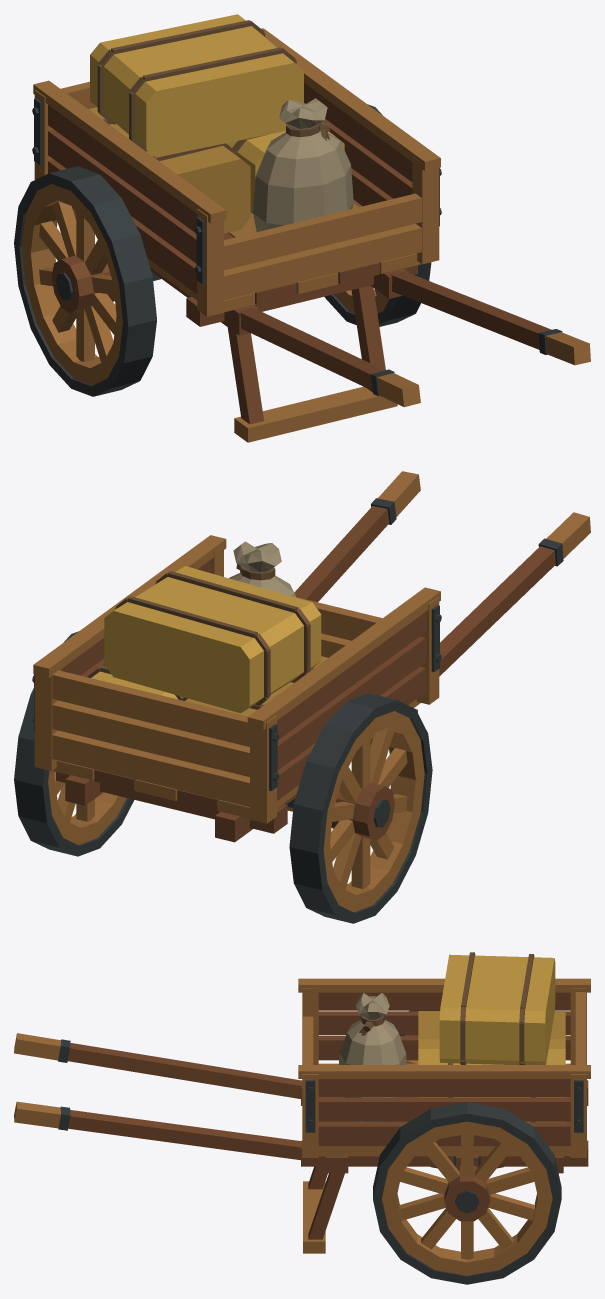
Rendered from gerobak.glb.
3 renders of one model, top to bottom at view 1: azimuth 30°, elevation 25°; view 2: azimuth 150°, elevation 25°; view 3: azimuth 270°, elevation 25°, orthographic. The views are drawn at different scales.
Parts seen in each view (by area): view 1: woodencart.bales.bale_3.straw, woodencart.rails.sideboards, woodencart.rails.endboards, woodencart.wheel.left.rim, woodencart.sack.cloth, woodencart.rails.caps, woodencart.handles.shafts, woodencart.wheel.left.felloe, woodencart.wheel.left.spokes, woodencart.rails.posts, woodencart.bales.bale_1.straw, woodencart.support.foot (+11 smaller); view 2: woodencart.bales.bale_3.straw, woodencart.rails.endboards, woodencart.wheel.left.rim, woodencart.rails.sideboards, woodencart.rails.caps, woodencart.wheel.left.felloe, woodencart.handles.shafts, woodencart.wheel.left.spokes, woodencart.rails.posts, woodencart.wheel.right.rim, woodencart.frame.beams, woodencart.bales.bale_3.ties (+8 smaller); view 3: woodencart.rails.sideboards, woodencart.bales.bale_3.straw, woodencart.handles.shafts, woodencart.wheel.right.felloe, woodencart.wheel.right.rim, woodencart.wheel.right.spokes, woodencart.rails.caps, woodencart.rails.posts, woodencart.sack.cloth, woodencart.frame.beams, woodencart.handles.grips, woodencart.support.legs (+9 smaller).
Part boxes in pixels (box(x1,y1,x2,y2)): woodencart.bales.bale_3.straw: box(90, 14, 303, 157); woodencart.rails.sideboards: box(48, 83, 412, 293); woodencart.rails.endboards: box(60, 81, 421, 300); woodencart.wheel.left.rim: box(14, 166, 156, 396); woodencart.sack.cloth: box(253, 98, 353, 231); woodencart.rails.caps: box(33, 28, 440, 223); woodencart.handles.shafts: box(239, 271, 551, 390); woodencart.wheel.left.felloe: box(22, 184, 122, 385); woodencart.wheel.left.spokes: box(39, 201, 116, 362); woodencart.rails.posts: box(34, 90, 439, 316); woodencart.bales.bale_1.straw: box(88, 107, 250, 233); woodencart.support.foot: box(234, 386, 397, 442); woodencart.bales.bale_3.straw: box(104, 566, 321, 713); woodencart.rails.endboards: box(52, 597, 382, 807); woodencart.wheel.left.rim: box(289, 693, 432, 923); woodencart.rails.sideboards: box(61, 559, 425, 800); woodencart.rails.caps: box(33, 535, 440, 730); woodencart.wheel.left.felloe: box(323, 711, 424, 912); woodencart.handles.shafts: box(294, 506, 555, 676); woodencart.wheel.left.spokes: box(330, 728, 407, 889); woodencart.rails.posts: box(34, 544, 439, 823); woodencart.wheel.right.rim: box(14, 631, 134, 856); woodencart.frame.beams: box(56, 709, 417, 842); woodencart.bales.bale_3.ties: box(115, 571, 310, 705); woodencart.rails.sideboards: box(318, 992, 570, 1146); woodencart.bales.bale_3.straw: box(439, 954, 555, 1064); woodencart.handles.shafts: box(67, 1043, 302, 1160); woodencart.wheel.right.felloe: box(382, 1121, 552, 1275); woodencart.wheel.right.rim: box(373, 1102, 561, 1284); woodencart.wheel.right.spokes: box(399, 1134, 534, 1259); woodencart.rails.caps: box(298, 978, 590, 1078); woodencart.rails.posts: box(302, 988, 586, 1157); woodencart.sack.cloth: box(339, 993, 406, 1122); woodencart.frame.beams: box(301, 1080, 588, 1173); woodencart.handles.grips: box(14, 1033, 60, 1128); woodencart.support.legs: box(308, 1166, 344, 1239).
Bounding box in the file's own units: 1.61 × 1.4 × 3.05.
